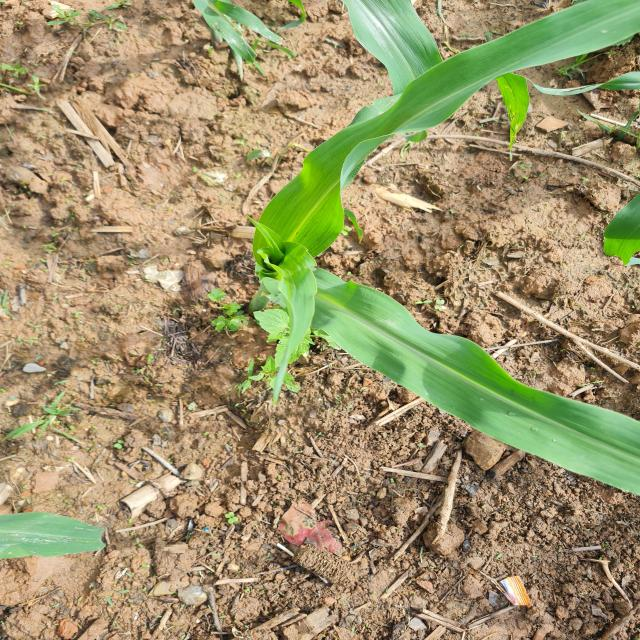maize: (83, 21, 640, 467)
weed: (185, 1, 300, 82), (235, 313, 322, 397), (0, 383, 114, 426), (181, 285, 265, 329), (217, 128, 291, 174)
